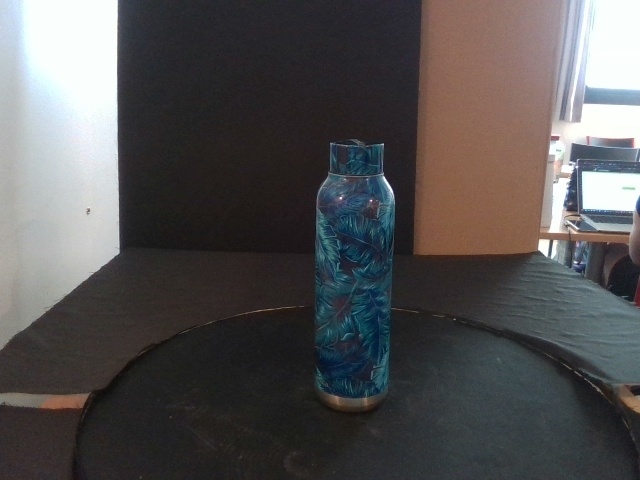bottle: (312, 137, 397, 412)
